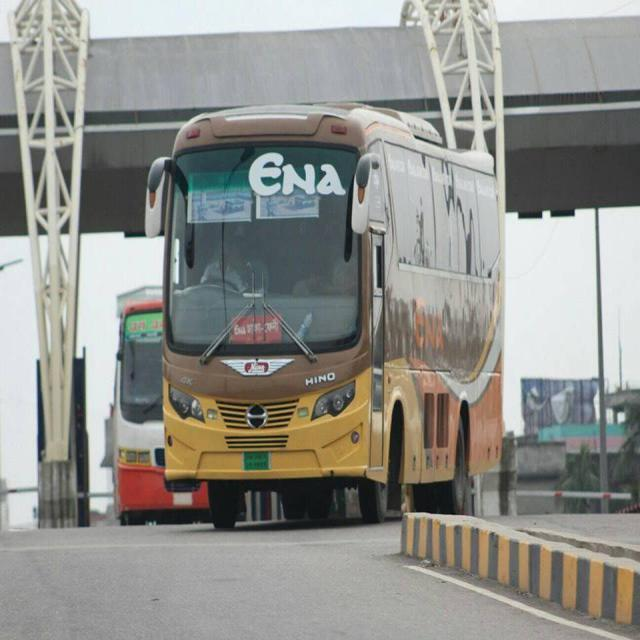bus: (147, 101, 504, 526)
